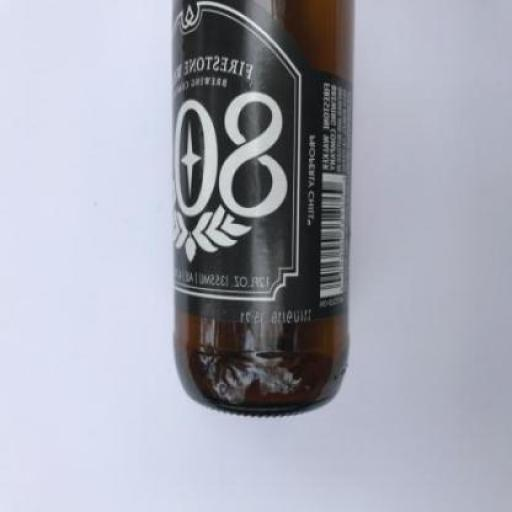glass: (172, 2, 354, 418)
